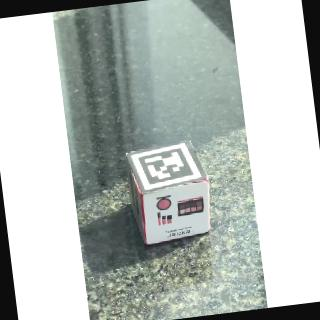Expired_Cosmetic: (145, 182, 218, 252)
